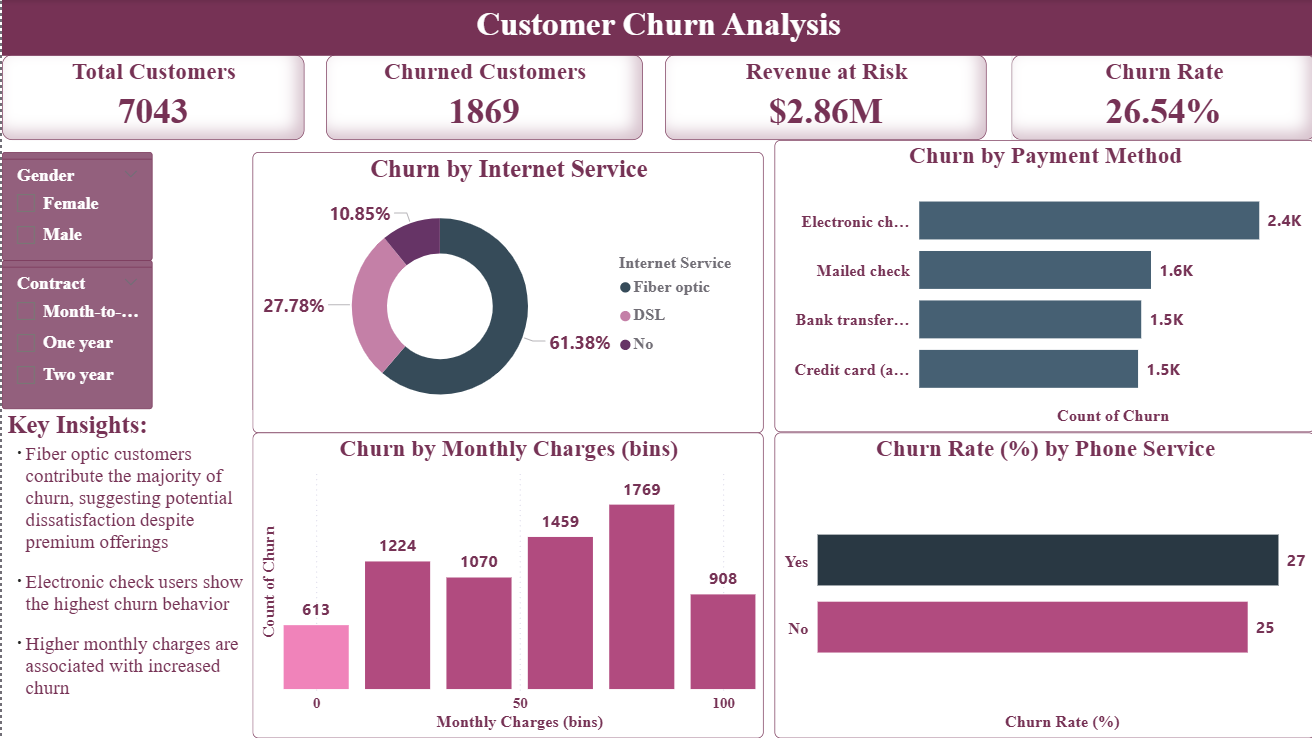

Layout of this report page (visuals, bound fields, positions):
{"tool":"powerbi","page":{"name":"Page 2","canvas":[1280,720],"ordinal":1},"visuals":[{"type":"card","title":"Total Customers","fields":{"Values":["Count(telco.Customer_ID)"]},"box":[0,54.2,294.9,83.1],"z":0},{"type":"card","title":"Churned Customers","fields":{"Values":["telco.Churned Customers"]},"box":[315,54.5,308.9,83.3],"z":1000},{"type":"card","title":"Churn Rate","fields":{"Values":["telco.Correct Percentage"]},"box":[983.1,54.2,296.6,83.1],"z":2000},{"type":"card","title":"Revenue at Risk","fields":{"Values":["telco.Revenue at Risk"]},"box":[645.8,54.2,313.6,83.1],"z":3000},{"type":"textbox","box":[0,0,1279.4,55.1],"z":4000},{"type":"slicer","fields":{"Values":["telco.Gender"]},"box":[0,148.4,146.9,106],"z":5000},{"type":"slicer","fields":{"Values":["telco.Contract"]},"box":[0,254.4,146.9,145.4],"z":6000},{"type":"donutChart","title":" Churn by Internet Service","fields":{"Category":["telco.Internet Service"],"Y":["telco.Churn Rate (%)"]},"box":[243.8,148.4,498.2,274.1],"z":7000},{"type":"barChart","title":"Churn by Payment Method","fields":{"Category":["telco.Payment Method"],"Y":["CountNonNull(telco.Churn)"]},"box":[752.6,137.8,526.9,284.7],"z":8000},{"type":"columnChart","title":"Churn by Monthly Charges (bins)","fields":{"Category":["telco.Monthly Charges (bins)"],"Y":["CountNonNull(telco.Churn)"]},"box":[244.1,422,498.3,298.3],"z":9000},{"type":"barChart","fields":{"Category":["telco.Phone Service"],"Y":["telco.Churn Rate (%)"]},"box":[752.6,422.5,526.9,298.3],"z":10000},{"type":"textbox","title":"Key Insights:","box":[0,399.8,243.8,319.5],"z":11000}]}

Visuals, with their boxes in screenshot pixels (x1, y1, x2, y2), scaled from the page's 1280x720 canvas onto the 1312x738 screenshot:
"Total Customers" card: l=0, t=56, r=302, b=141
"Churned Customers" card: l=323, t=56, r=639, b=141
"Churn Rate" card: l=1008, t=56, r=1311, b=141
"Revenue at Risk" card: l=662, t=56, r=983, b=141
textbox: l=0, t=0, r=1311, b=56
slicer - telco.Gender: l=0, t=152, r=151, b=261
slicer - telco.Contract: l=0, t=261, r=151, b=410
" Churn by Internet Service" donutChart: l=250, t=152, r=761, b=433
"Churn by Payment Method" barChart: l=771, t=141, r=1311, b=433
"Churn by Monthly Charges (bins)" columnChart: l=250, t=433, r=761, b=737
barChart - telco.Phone Service x telco.Churn Rate (%): l=771, t=433, r=1311, b=737
"Key Insights:" textbox: l=0, t=410, r=250, b=737
